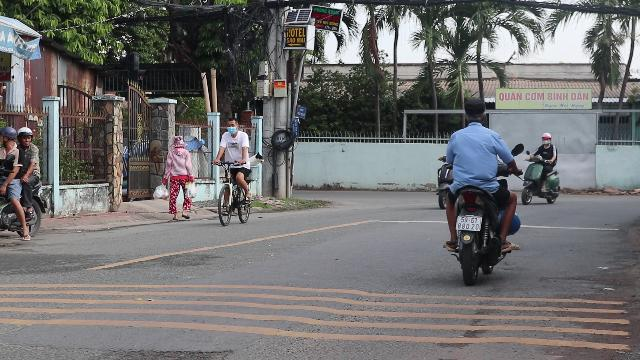helmet: (0, 125, 16, 147), (17, 127, 33, 145)
licenseplate: (456, 216, 482, 231)
motorcyclist: (434, 95, 522, 281), (0, 124, 48, 248)
nohelmet: (461, 96, 487, 125)
